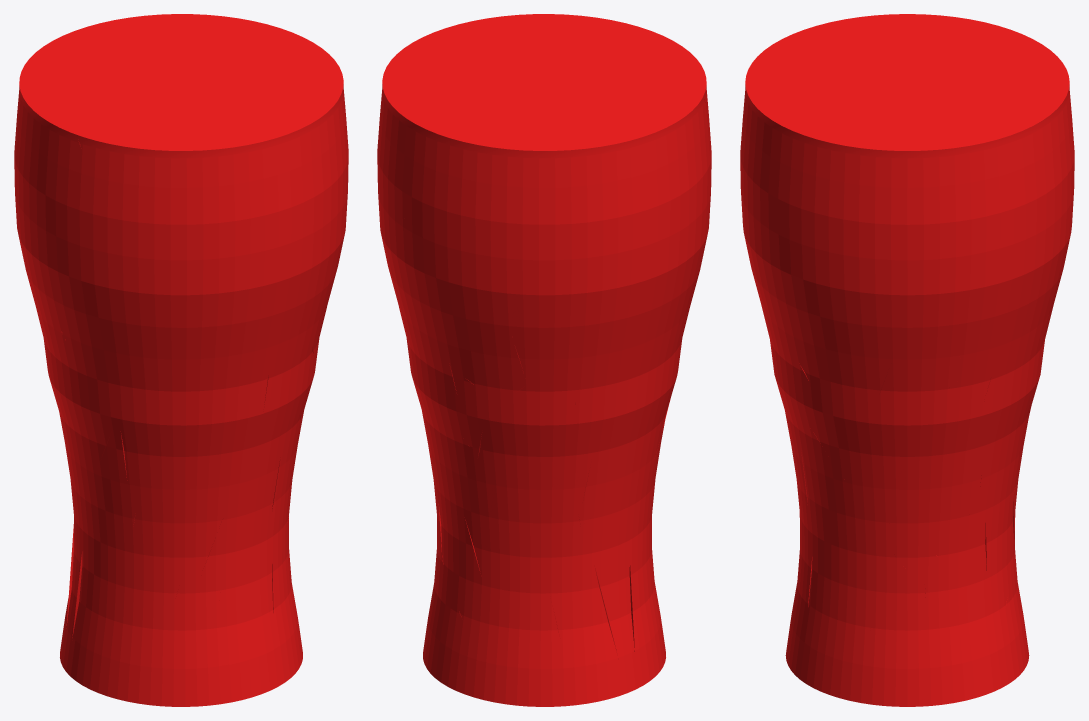
Rendered from glass_break_animation.fbx.
The picture shows the model from 3 angles, left to right: view 1: azimuth 30°, elevation 25°; view 2: azimuth 150°, elevation 25°; view 3: azimuth 270°, elevation 25°; orthographic projection.
Visible parts, largest first — view 1: Boolean_fracturepart140, Boolean_fracturepart195, Boolean_fracturepart240, Boolean_fracturepart23, Boolean_fracturepart24, Boolean_fracturepart53, Boolean_fracturepart95, Boolean_fracturepart248, Boolean_fracturepart91, Boolean_fracturepart57, Boolean_fracturepart97, Boolean_fracturepart132 (+57 smaller); view 2: Boolean_fracturepart70, Boolean_fracturepart90, Boolean_fracturepart21, Boolean_fracturepart107, Boolean_fracturepart76, Boolean_fracturepart116, Boolean_fracturepart164, Boolean_fracturepart73, Boolean_fracturepart180, Boolean_fracturepart204, Boolean_fracturepart233, Boolean_fracturepart83 (+55 smaller); view 3: Boolean_fracturepart68, Boolean_fracturepart83, Boolean_fracturepart50, Boolean_fracturepart202, Boolean_fracturepart110, Boolean_fracturepart218, Boolean_fracturepart52, Boolean_fracturepart64, Boolean_fracturepart206, Boolean_fracturepart213, Boolean_fracturepart3, Boolean_fracturepart108 (+66 smaller).
Part boxes in pixels (x1,y1,x2,y2): Boolean_fracturepart140: [77, 126, 204, 223]; Boolean_fracturepart195: [208, 153, 296, 275]; Boolean_fracturepart240: [107, 622, 217, 706]; Boolean_fracturepart23: [161, 275, 256, 371]; Boolean_fracturepart24: [168, 371, 268, 439]; Boolean_fracturepart53: [51, 189, 137, 282]; Boolean_fracturepart95: [127, 444, 222, 513]; Boolean_fracturepart248: [274, 133, 334, 267]; Boolean_fracturepart91: [131, 508, 225, 583]; Boolean_fracturepart57: [72, 550, 128, 668]; Boolean_fracturepart97: [165, 123, 279, 191]; Boolean_fracturepart132: [210, 612, 275, 704]; Boolean_fracturepart70: [464, 496, 581, 591]; Boolean_fracturepart90: [477, 425, 592, 512]; Boolean_fracturepart21: [511, 304, 627, 387]; Boolean_fracturepart107: [456, 584, 560, 679]; Boolean_fracturepart76: [465, 125, 547, 219]; Boolean_fracturepart116: [480, 204, 583, 285]; Boolean_fracturepart164: [436, 268, 518, 348]; Boolean_fracturepart73: [643, 96, 703, 208]; Boolean_fracturepart180: [581, 463, 657, 563]; Boolean_fracturepart204: [549, 561, 618, 663]; Boolean_fracturepart233: [540, 141, 608, 239]; Boolean_fracturepart83: [379, 44, 490, 123]; Boolean_fracturepart68: [841, 143, 950, 286]; Boolean_fracturepart83: [887, 105, 1014, 196]; Boolean_fracturepart50: [759, 112, 866, 222]; Boolean_fracturepart202: [807, 538, 871, 645]; Boolean_fracturepart110: [858, 285, 948, 360]; Boolean_fracturepart218: [941, 612, 1028, 704]; Boolean_fracturepart52: [830, 637, 933, 706]; Boolean_fracturepart64: [774, 221, 856, 281]; Boolean_fracturepart206: [928, 262, 1013, 340]; Boolean_fracturepart213: [766, 77, 909, 127]; Boolean_fracturepart3: [979, 94, 1062, 169]; Boolean_fracturepart108: [797, 273, 873, 342].
Size of what is drawn, in the model's own units: 230 by 435 by 230.
